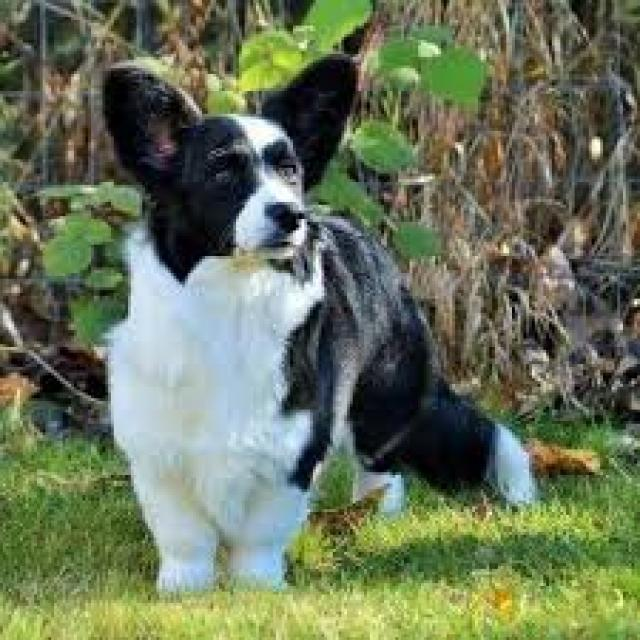CORGI: (59, 44, 553, 626)
